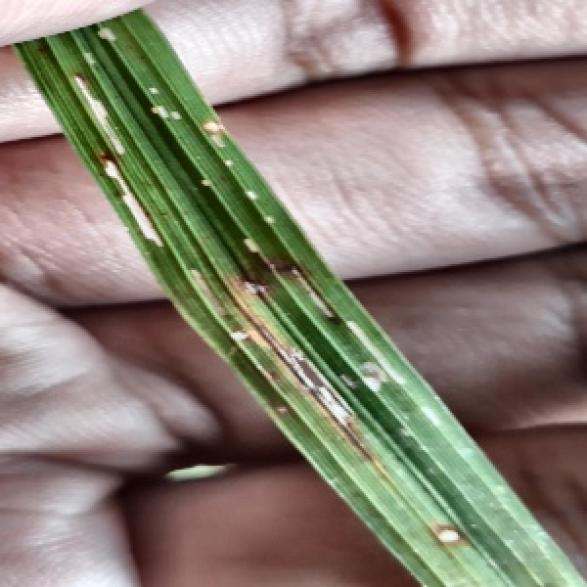Leaf_smut: (184, 262, 473, 562), (29, 20, 315, 260)
